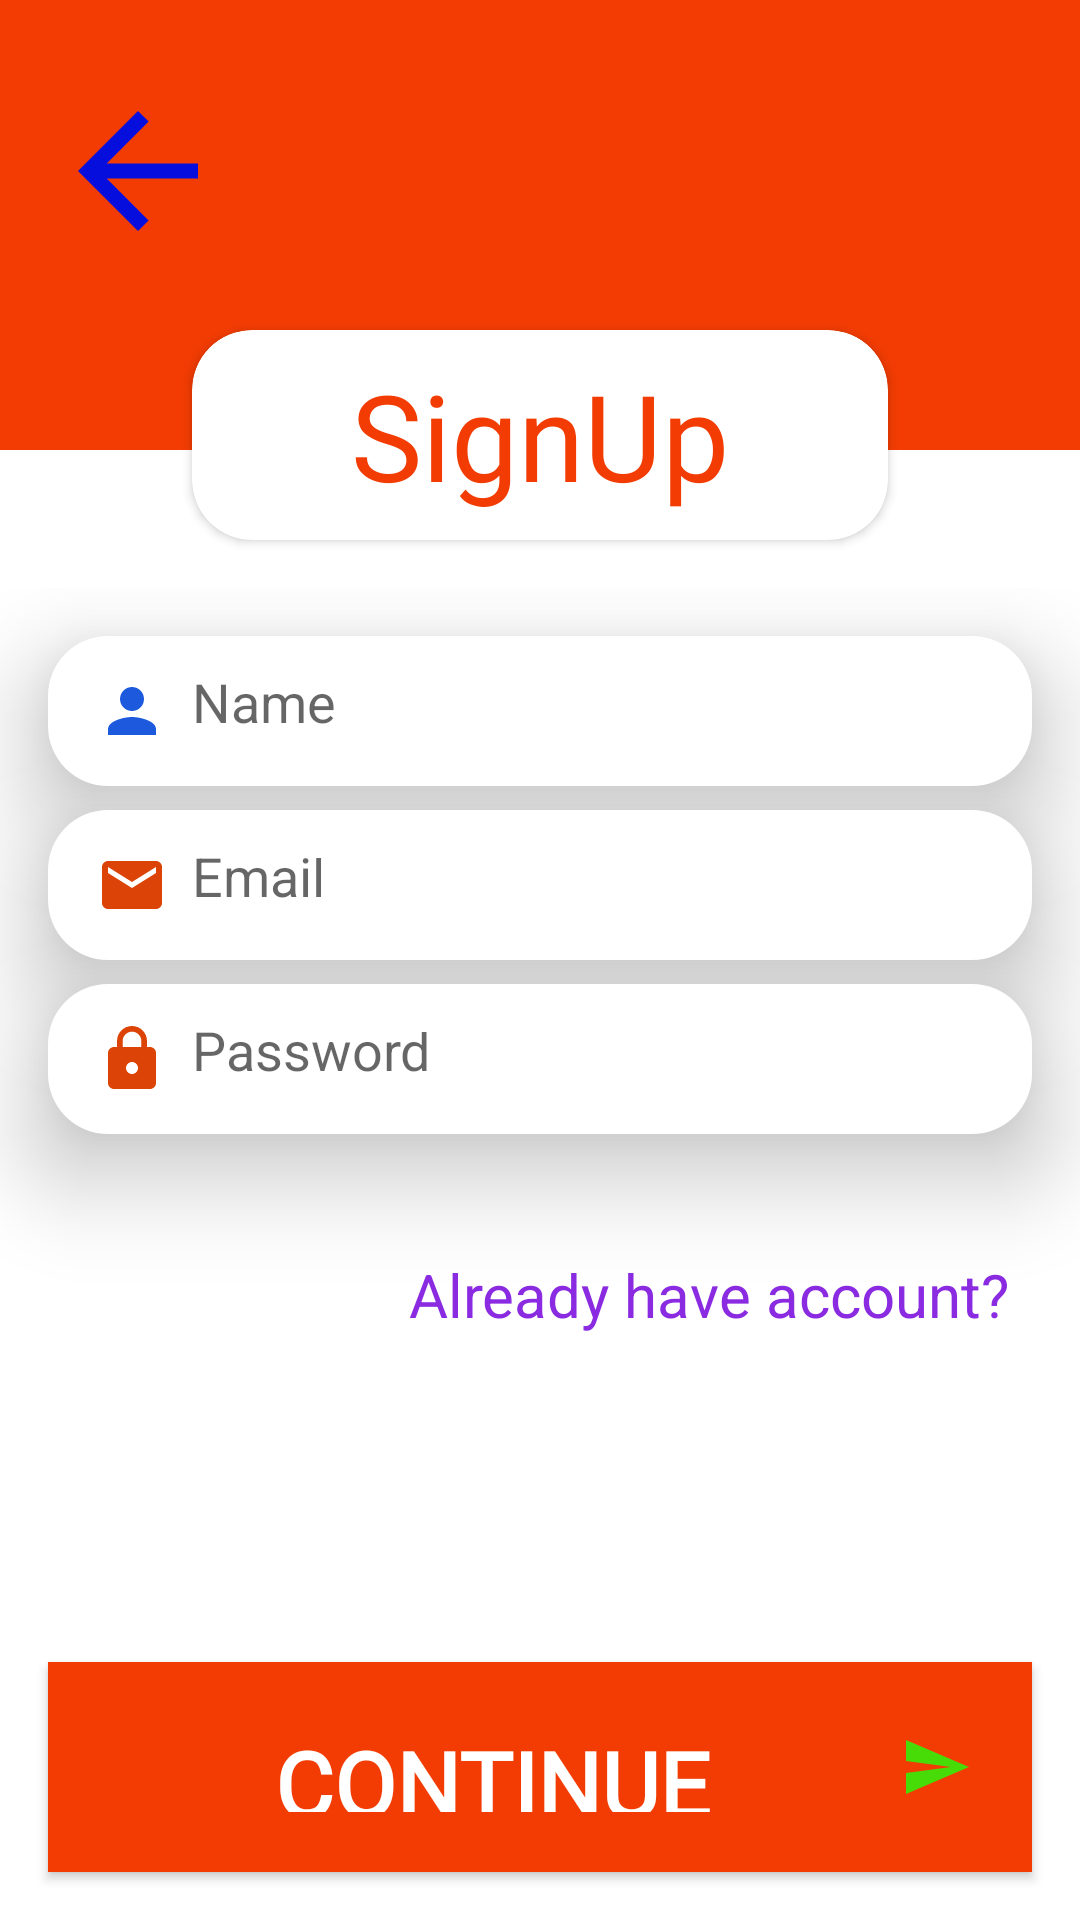

Where icons sit on this 1080 × 1920 app screen, as (x1, y1, x2, y2):
back: (78, 111, 198, 231)
